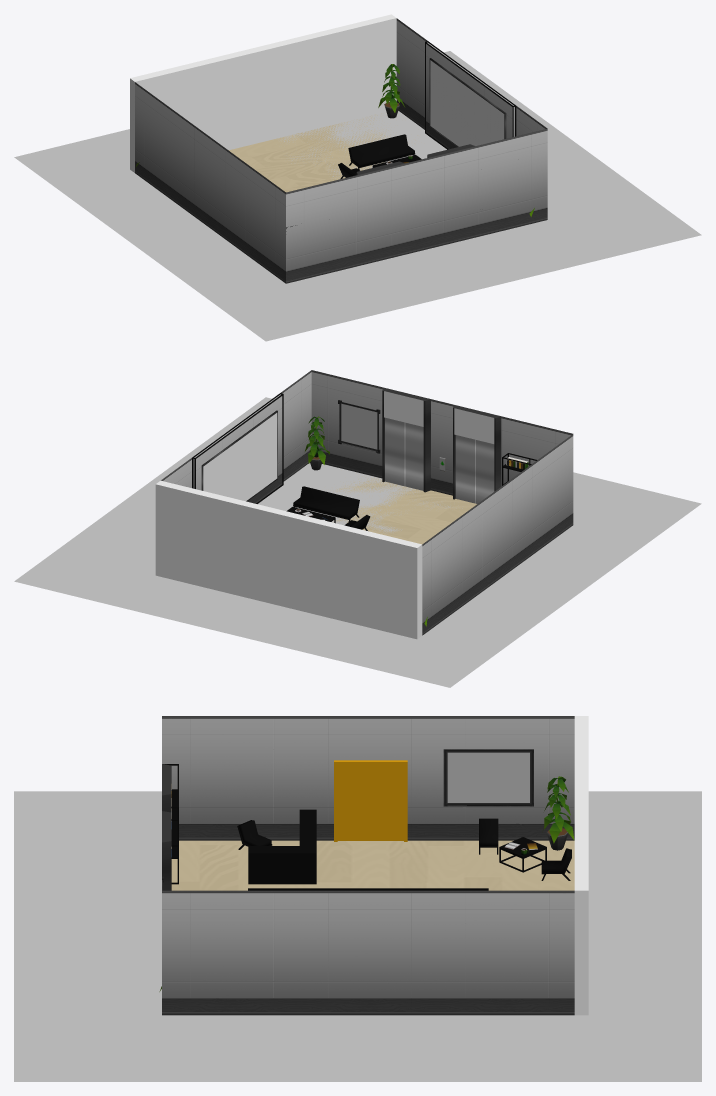
3 views of the same model, one above another, from view 1: azimuth 30°, elevation 25°; view 2: azimuth 150°, elevation 25°; view 3: azimuth 270°, elevation 25° (orthographic). The views are drawn at different scales.
Parts seen in each view (by area): view 1: Celling_08m.004, Condominium_BG; view 2: Celling_08m.004, Condominium_BG; view 3: Celling_08m.004, Condominium_BG.
Part boxes in pixels (x1=…): Celling_08m.004: x1=130, y1=14, x2=547, y2=283; Condominium_BG: x1=14, y1=51, x2=701, y2=341; Celling_08m.004: x1=155, y1=370, x2=573, y2=639; Condominium_BG: x1=14, y1=397, x2=701, y2=687; Celling_08m.004: x1=159, y1=716, x2=588, y2=1015; Condominium_BG: x1=14, y1=791, x2=701, y2=1081.
Size of the model in its own units: 2000 by 407 by 2000.
